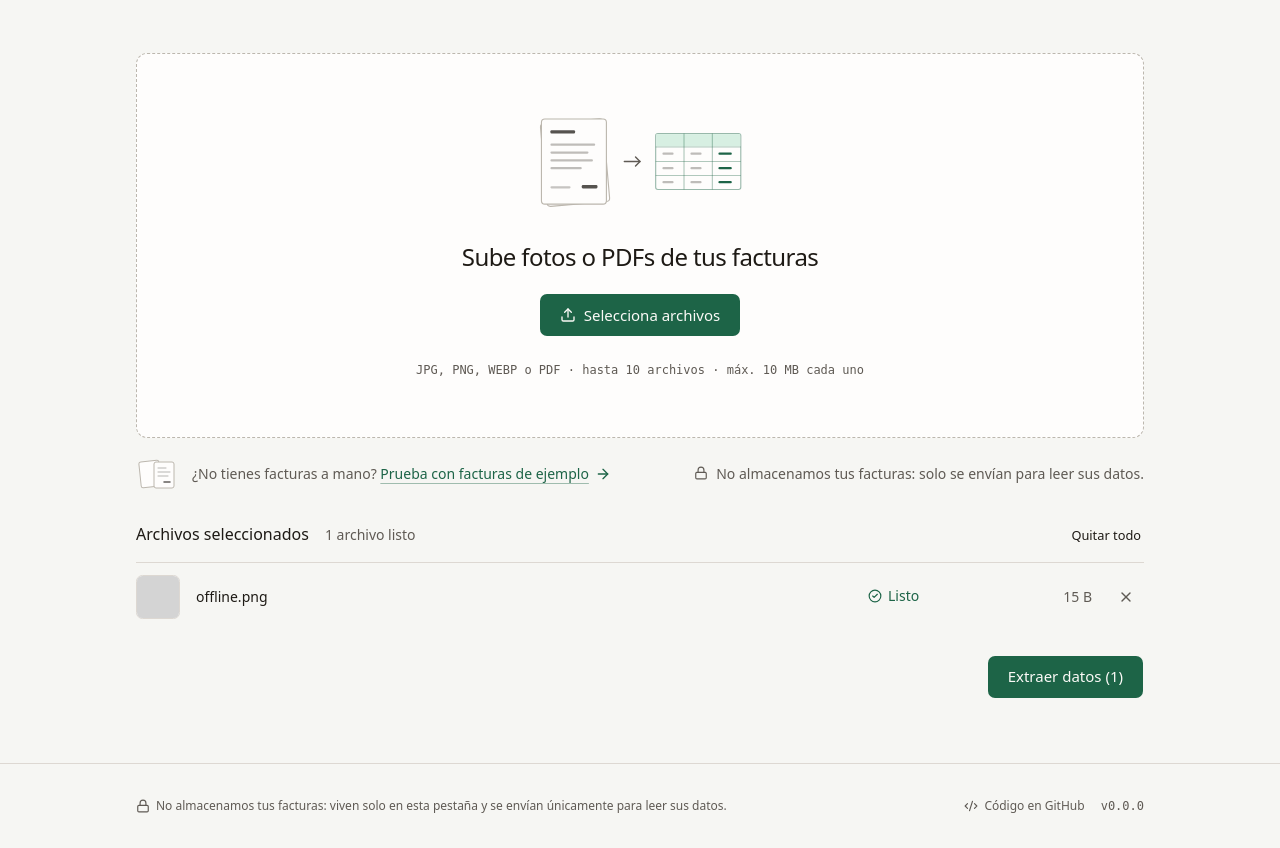
Upload → extract › explains a 503 for offline.png and keeps the files to retry
Earlier steps of the test are not shown.
(page scrolled)
Click the button "Extraer datos (1)". click: x=1065, y=676
box: [987, 654, 1144, 698]
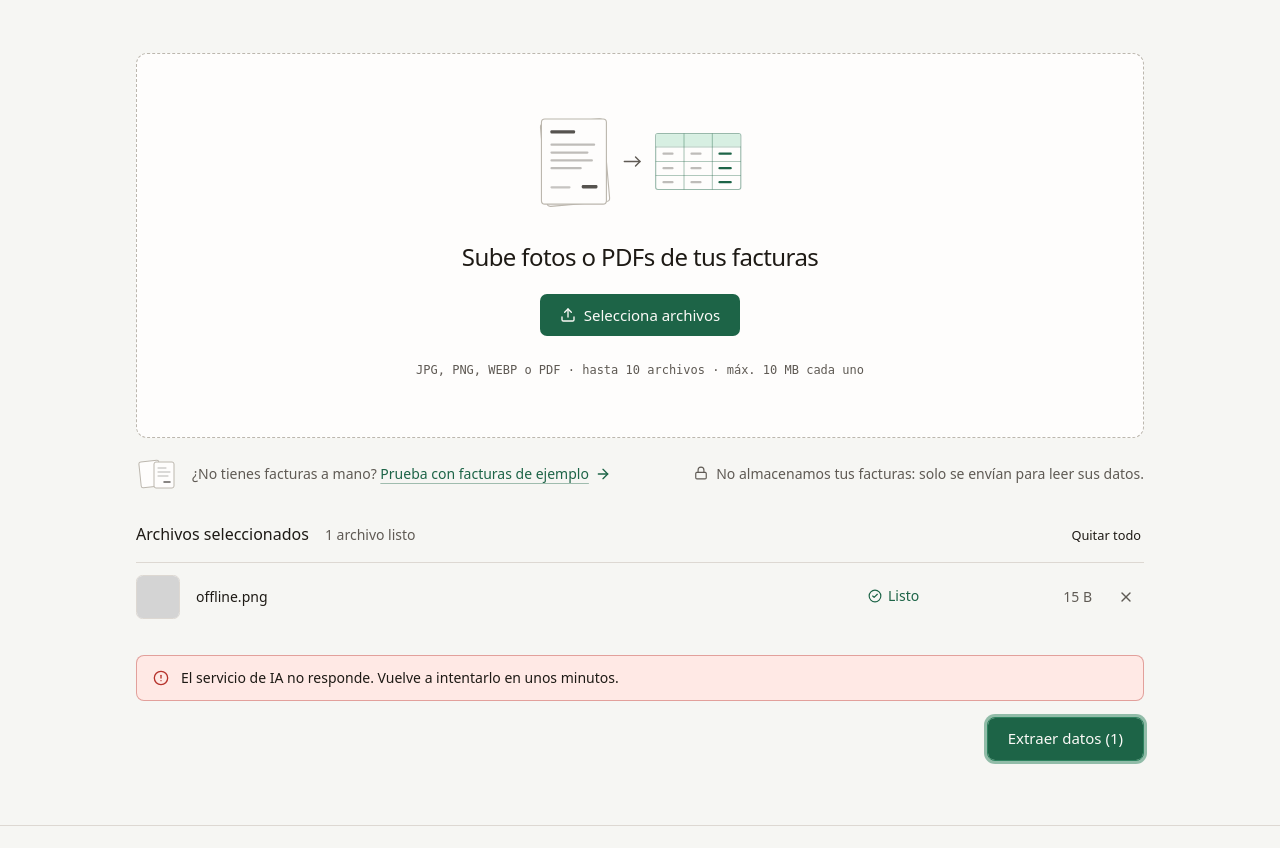
Expected: the button "Extraer datos (1)" is enabled, [987, 716, 1144, 760]
Expected: the message reads "El servicio de IA no responde. Vuelve a intentarlo en unos minutos.", [181, 668, 619, 686]
